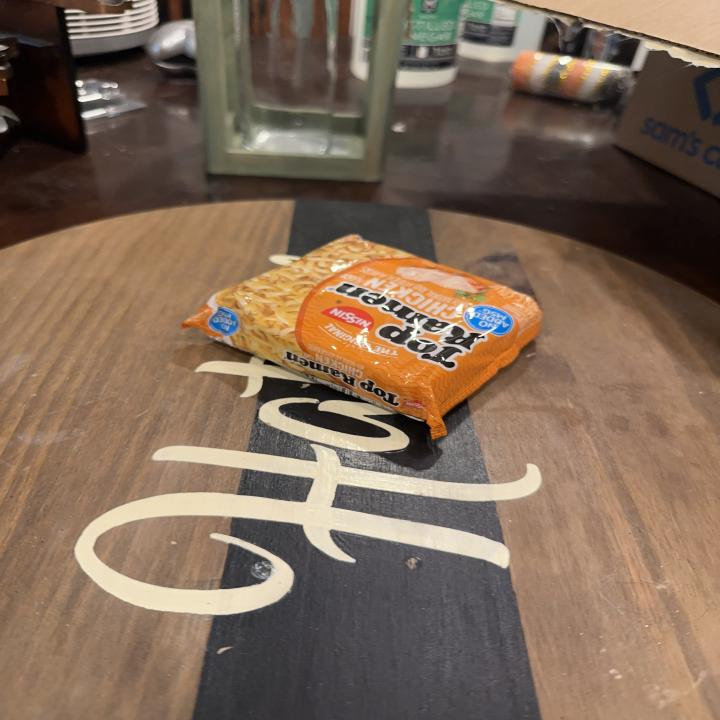Ramen: (181, 232, 545, 438)
